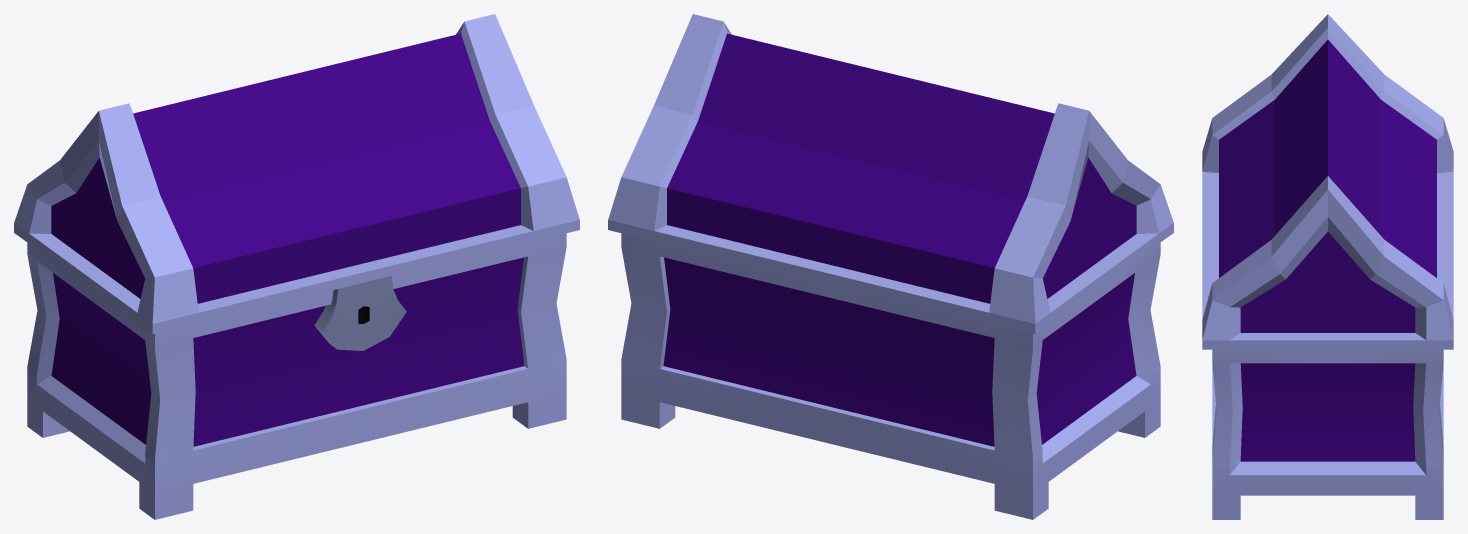
File: Chest_1_animated.glb
3 renders of one model, left to right at view 1: azimuth 30°, elevation 25°; view 2: azimuth 150°, elevation 25°; view 3: azimuth 270°, elevation 25°, orthographic. The views are drawn at different scales.
Parts seen in each view (by area): view 1: Chest_lid_1, Chest_1; view 2: Chest_lid_1, Chest_1; view 3: Chest_lid_1, Chest_1.
Part boxes in pixels (bbox=[...]): Chest_lid_1: bbox=[14, 14, 579, 334]; Chest_1: bbox=[27, 233, 566, 519]; Chest_lid_1: bbox=[608, 14, 1173, 334]; Chest_1: bbox=[621, 233, 1160, 519]; Chest_lid_1: bbox=[1202, 14, 1453, 349]; Chest_1: bbox=[1212, 349, 1443, 519].
Size of the model in its own units: 0.5701 by 0.4599 by 0.3199.
